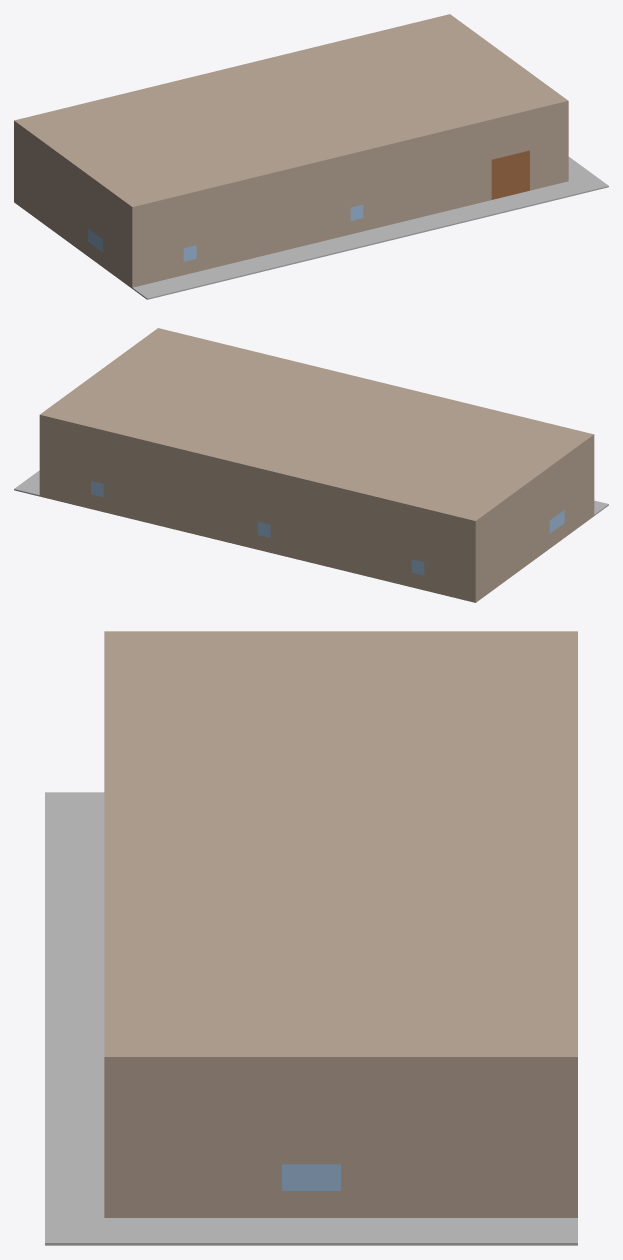
Rendered from bus_station.glb.
3 renders of one model, top to bottom at view 1: azimuth 30°, elevation 25°; view 2: azimuth 150°, elevation 25°; view 3: azimuth 270°, elevation 25°, orthographic. The views are drawn at different scales.
Visible parts, largest first — view 1: Plane; view 2: Plane; view 3: Plane.
Boxes of the visible parts, x1,y1,x2,y2 form: Plane: [14, 14, 608, 299]; Plane: [14, 328, 608, 602]; Plane: [45, 631, 577, 1245].
Size of what is drawn, in the model's own units: 36 by 6.1 by 18.
